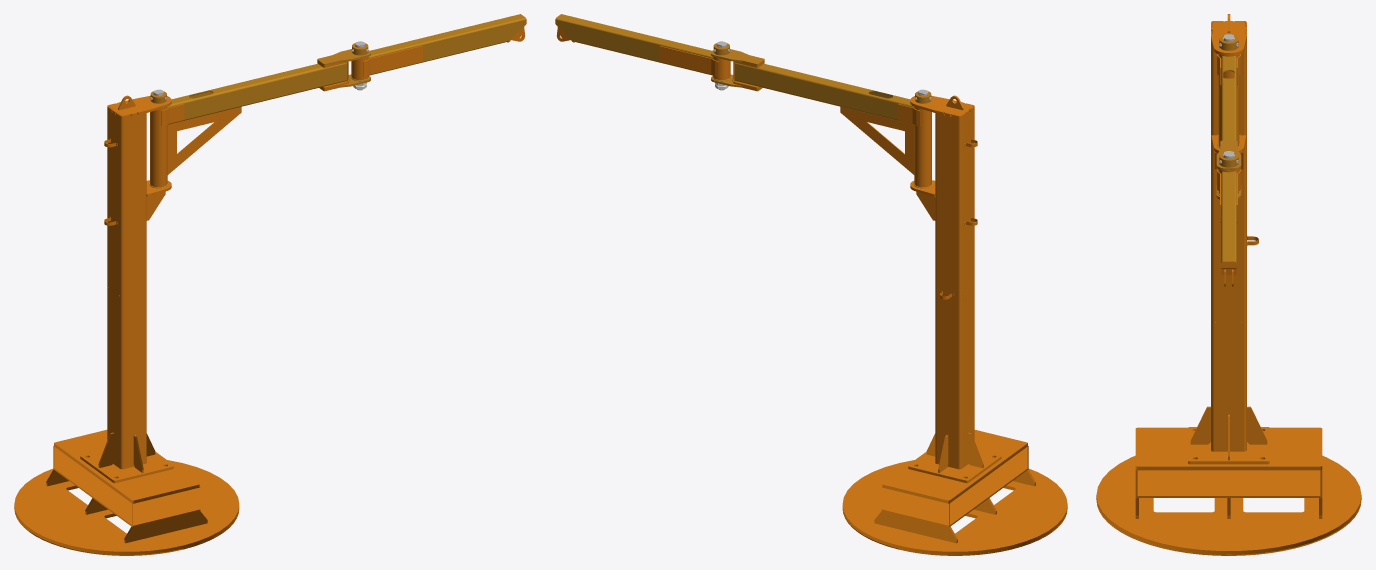
File: aardwolf_all_part_Mobile Articulated Jib Crane-Two Arm.fbx
3 views of the same model, side by side, from view 1: azimuth 30°, elevation 25°; view 2: azimuth 150°, elevation 25°; view 3: azimuth 270°, elevation 25° (orthographic). The views are drawn at different scales.
Parts seen in each view (by area): view 1: aardwolf_all_part_obj033, Solid1 (×5), Solid2 (×2); view 2: aardwolf_all_part_obj033, Solid1 (×5), Solid2 (×2); view 3: aardwolf_all_part_obj033, Solid1 (×4), Solid2 (×2).
Boxes of the visible parts, bbox=[...] form: aardwolf_all_part_obj033: bbox=[14, 430, 239, 555]; Solid1 (×5): bbox=[107, 46, 422, 469]; Solid2 (×2): bbox=[167, 14, 525, 124]; aardwolf_all_part_obj033: bbox=[842, 430, 1067, 555]; Solid1 (×5): bbox=[659, 46, 974, 469]; Solid2 (×2): bbox=[556, 14, 914, 124]; aardwolf_all_part_obj033: bbox=[1096, 406, 1361, 555]; Solid1 (×4): bbox=[1211, 21, 1246, 451]; Solid2 (×2): bbox=[1221, 56, 1236, 261].
Bounding box in the file's own units: 3294 × 2627 × 1300.
